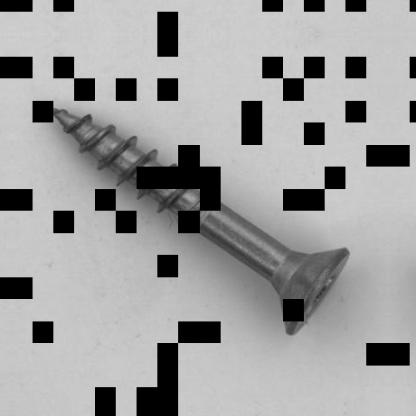metal: (47, 102, 354, 337)
